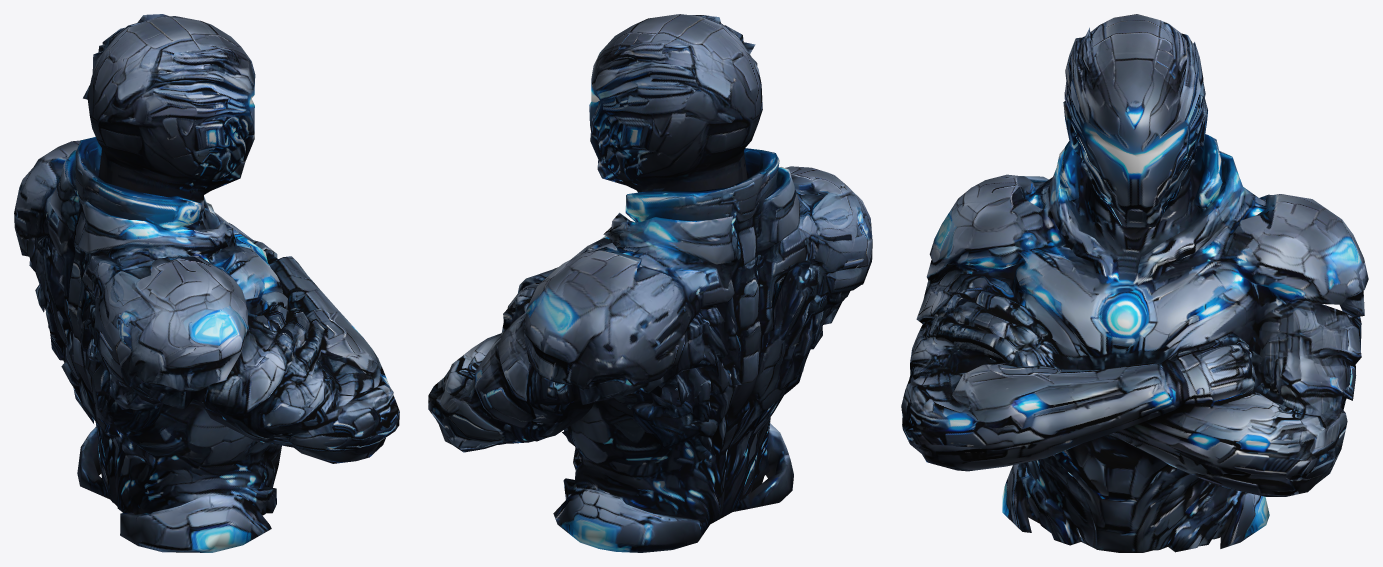
File: futuristic armor 3d model (1).glb
3 views of the same model, side by side, from view 1: azimuth 30°, elevation 25°; view 2: azimuth 150°, elevation 25°; view 3: azimuth 270°, elevation 25° (orthographic).
Parts seen in each view (by area): view 1: tripo_node_83b9202c-1d1b-4d81-9c05-a4fd980b608c; view 2: tripo_node_83b9202c-1d1b-4d81-9c05-a4fd980b608c; view 3: tripo_node_83b9202c-1d1b-4d81-9c05-a4fd980b608c.
Boxes of the visible parts, x1,y1,x2,y2 form: tripo_node_83b9202c-1d1b-4d81-9c05-a4fd980b608c: (14, 14, 399, 552); tripo_node_83b9202c-1d1b-4d81-9c05-a4fd980b608c: (428, 14, 872, 552); tripo_node_83b9202c-1d1b-4d81-9c05-a4fd980b608c: (901, 14, 1368, 552).
Size of the model in its own units: 0.6316 by 0.9995 by 0.8783.
Materials: 1 (1 with a texture image).
